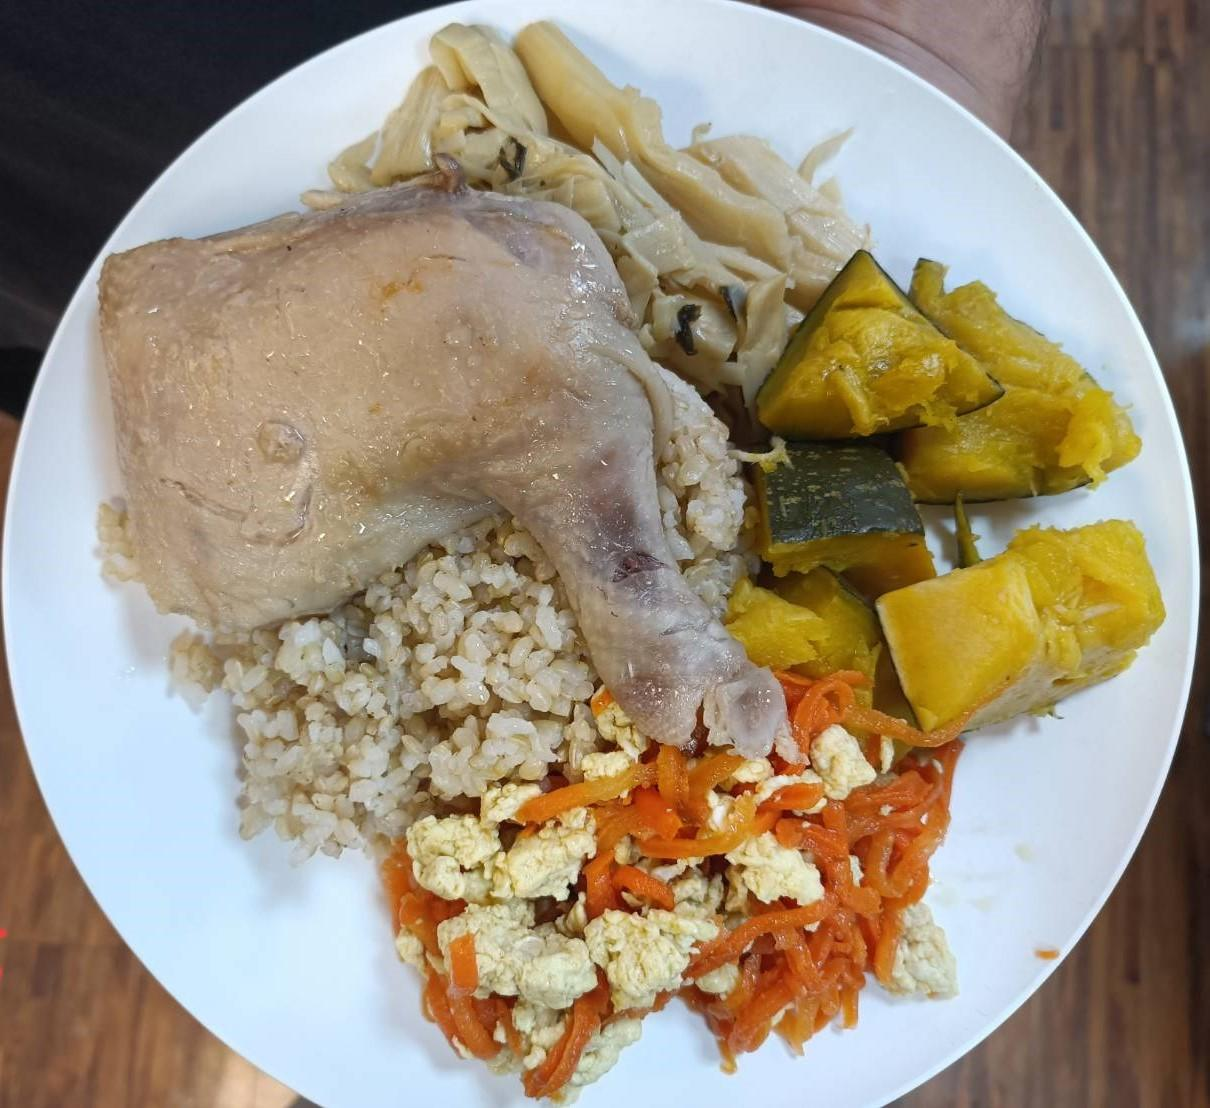big fried chicken leg: (18, 16, 1210, 1108)
braised fish fillet: (376, 688, 983, 1075), (742, 255, 1169, 730), (348, 28, 864, 377)
